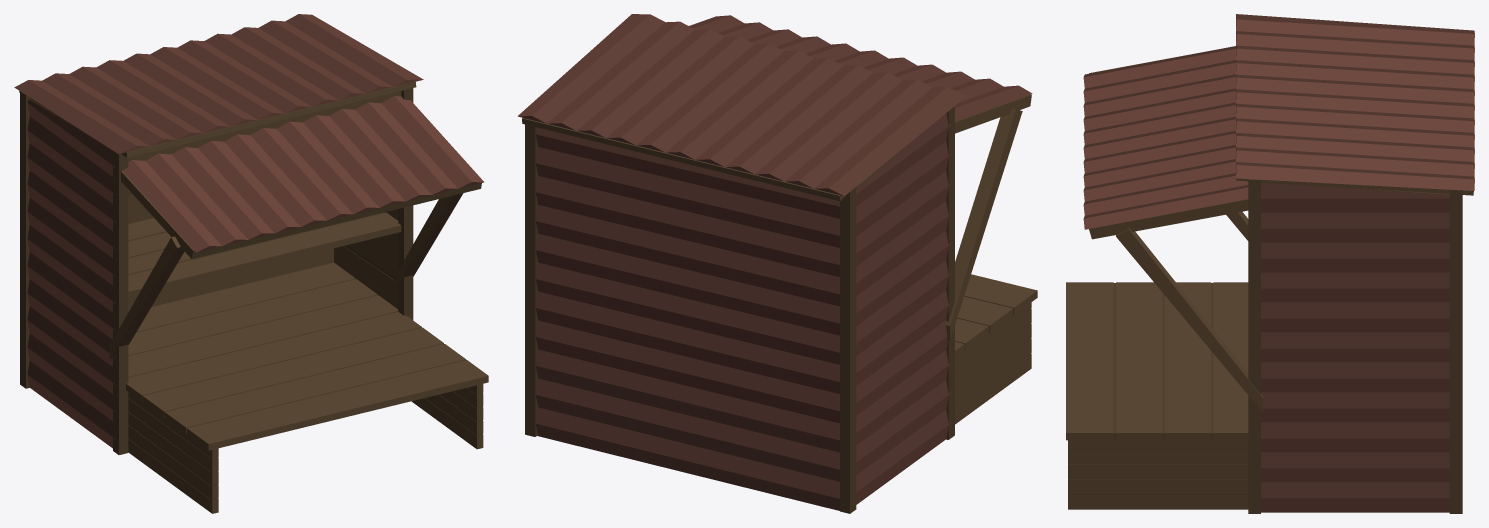
File: FoodStall_2.fbx
The picture shows the model from 3 angles, left to right: view 1: azimuth 30°, elevation 25°; view 2: azimuth 150°, elevation 25°; view 3: azimuth 270°, elevation 25°; orthographic projection. The views are drawn at different scales.
Visible parts, largest first — view 1: FoodStall_2; view 2: FoodStall_2; view 3: FoodStall_2.
Boxes of the visible parts, x1,y1,x2,y2 form: FoodStall_2: (14,14,488,513); FoodStall_2: (517,14,1037,513); FoodStall_2: (1066,14,1474,513).
Bounding box in the file's own units: 254 × 249 × 267.
